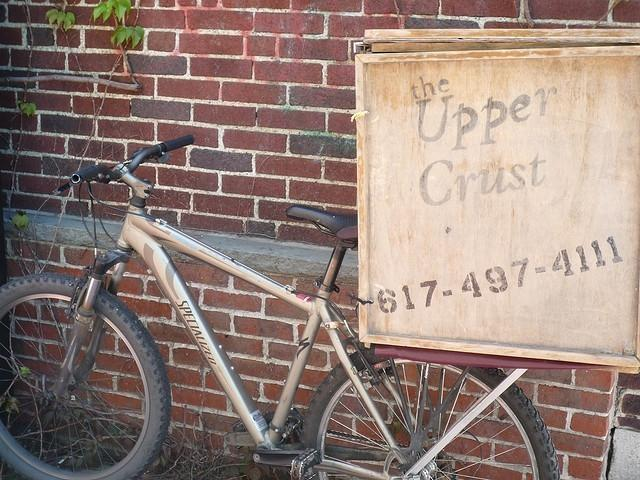bicycle: (2, 131, 563, 475)
